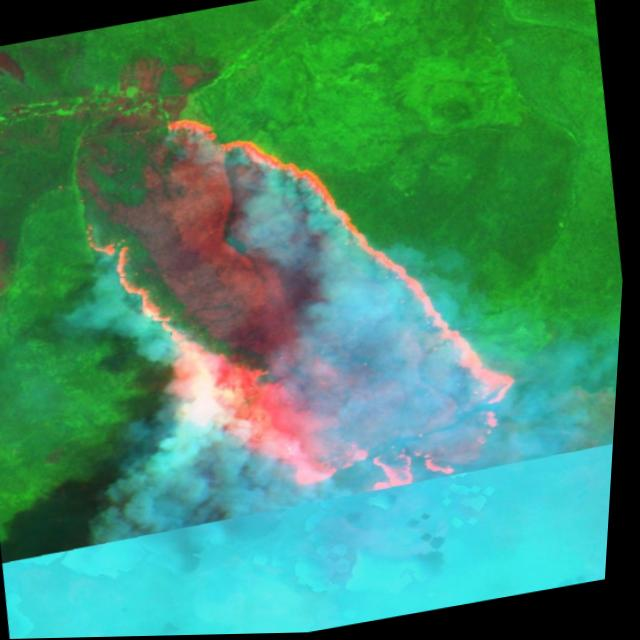fire: (45, 65, 556, 583)
